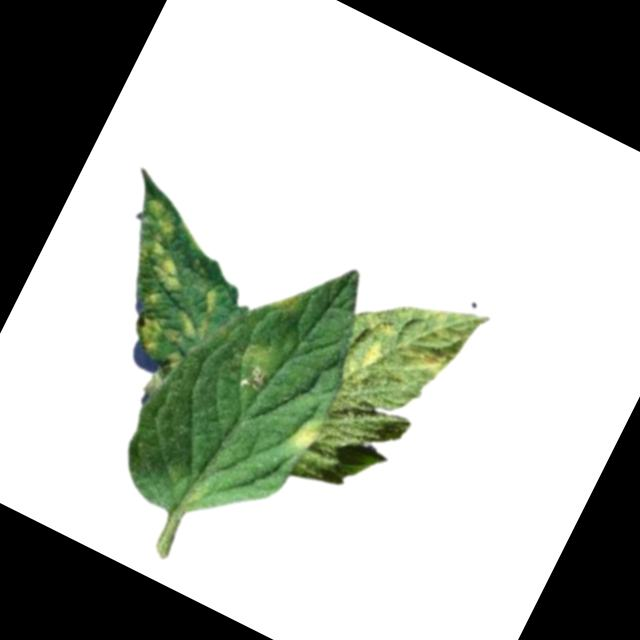Leaf_Mold: (395, 290, 484, 386), (335, 309, 397, 388), (171, 278, 227, 345), (133, 239, 191, 294), (280, 407, 327, 455), (137, 196, 185, 239), (127, 310, 170, 357)
